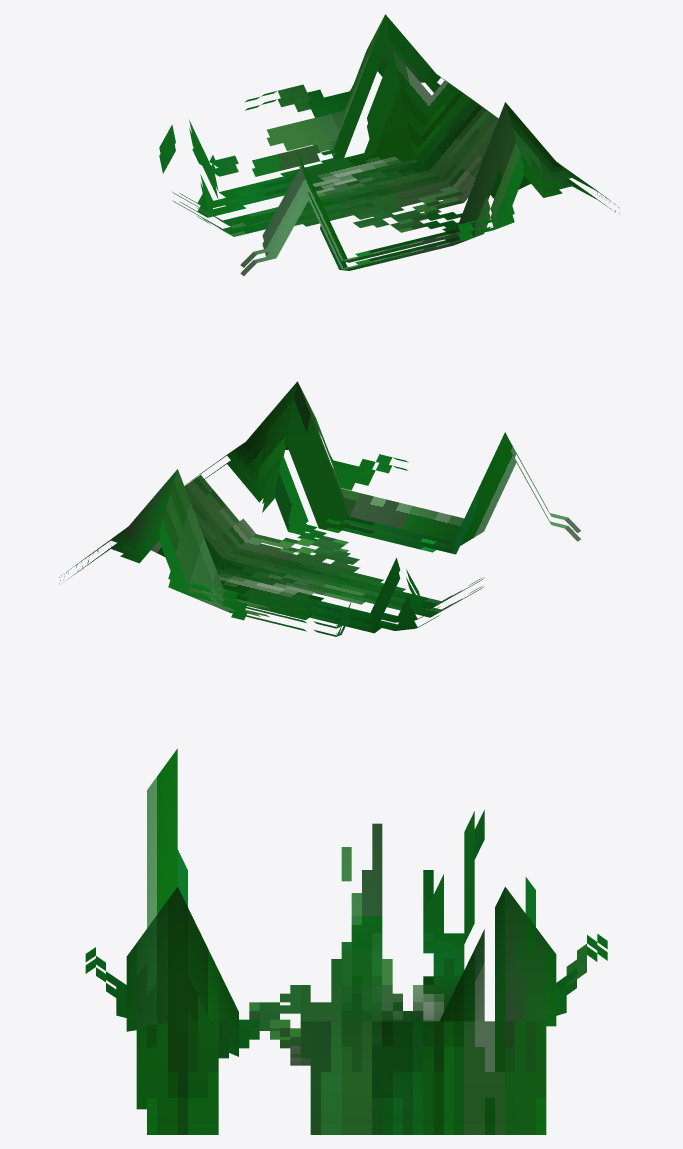
Rendered from groundDanger.dae.
The picture shows the model from 3 angles, top to bottom: view 1: azimuth 30°, elevation 25°; view 2: azimuth 150°, elevation 25°; view 3: azimuth 270°, elevation 25°; orthographic projection. The views are drawn at different scales.
Visible parts, largest first — view 1: pPlane2; view 2: pPlane2; view 3: pPlane2.
Part boxes in pixels (x1,y1,x2,y2): pPlane2: (159, 14, 619, 275); pPlane2: (59, 381, 580, 636); pPlane2: (85, 748, 607, 1134).
Size of the model in its own units: 81.74 by 24.68 by 81.74.
